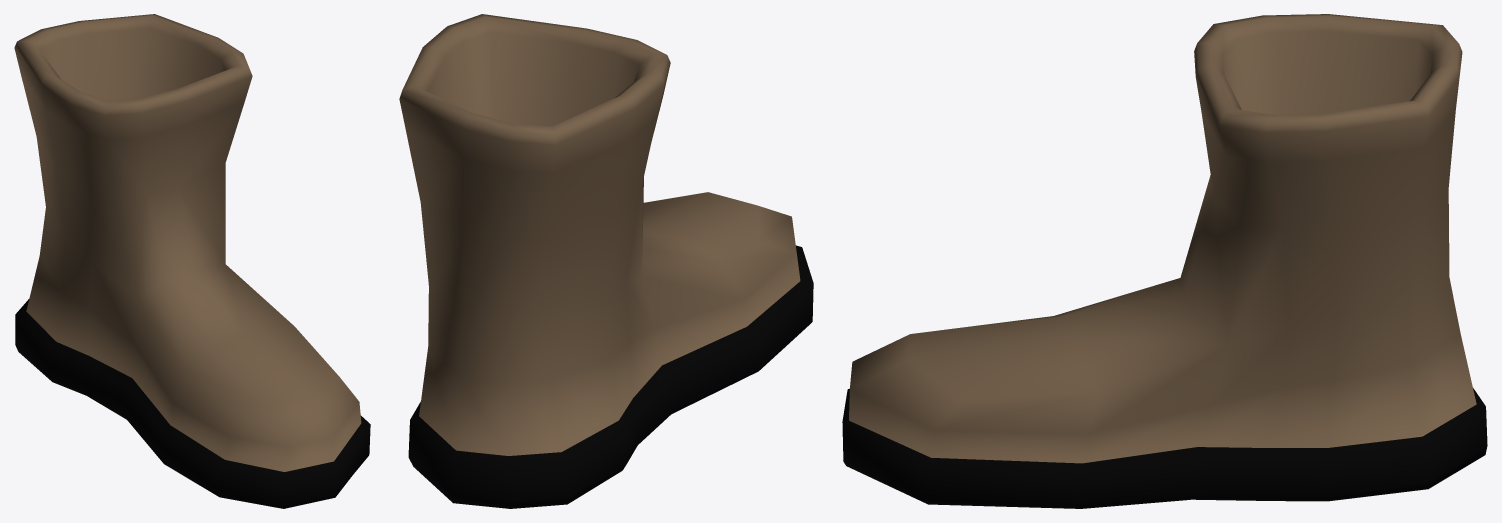
File: shoe.dae
The picture shows the model from 3 angles, left to right: view 1: azimuth 30°, elevation 25°; view 2: azimuth 150°, elevation 25°; view 3: azimuth 270°, elevation 25°; orthographic projection. The views are drawn at different scales.
Parts seen in each view (by area): view 1: Shoe; view 2: Shoe; view 3: Shoe.
Boxes of the visible parts, box(x1,y1,x2,y2) form: Shoe: box(14, 14, 370, 508); Shoe: box(399, 14, 813, 508); Shoe: box(842, 14, 1487, 508).
Size of the model in its own units: 0.0572 by 0.1397 by 0.0937.
